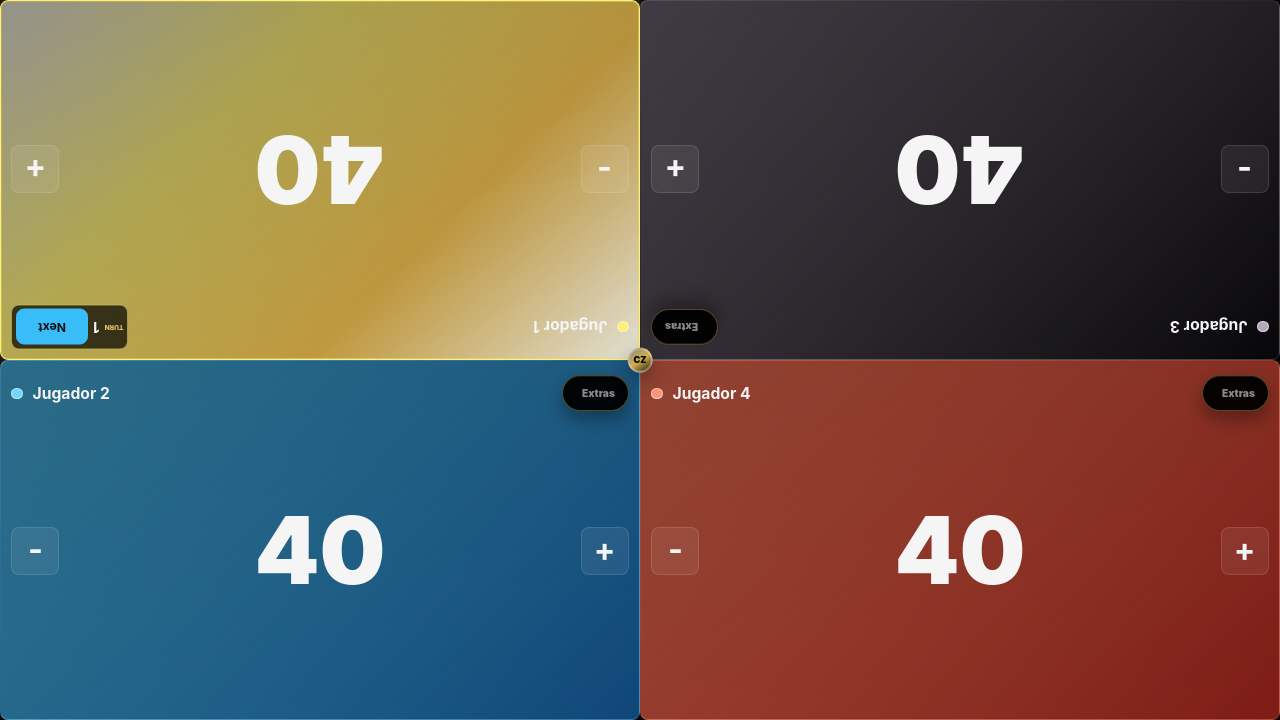
Scenario: TableAssistantRoomComponent › opens the centered logo exit menu without leaving the room immediately
Step 1. Click the button with class "table-logo-button" → (640, 360), box [628,348,652,372]
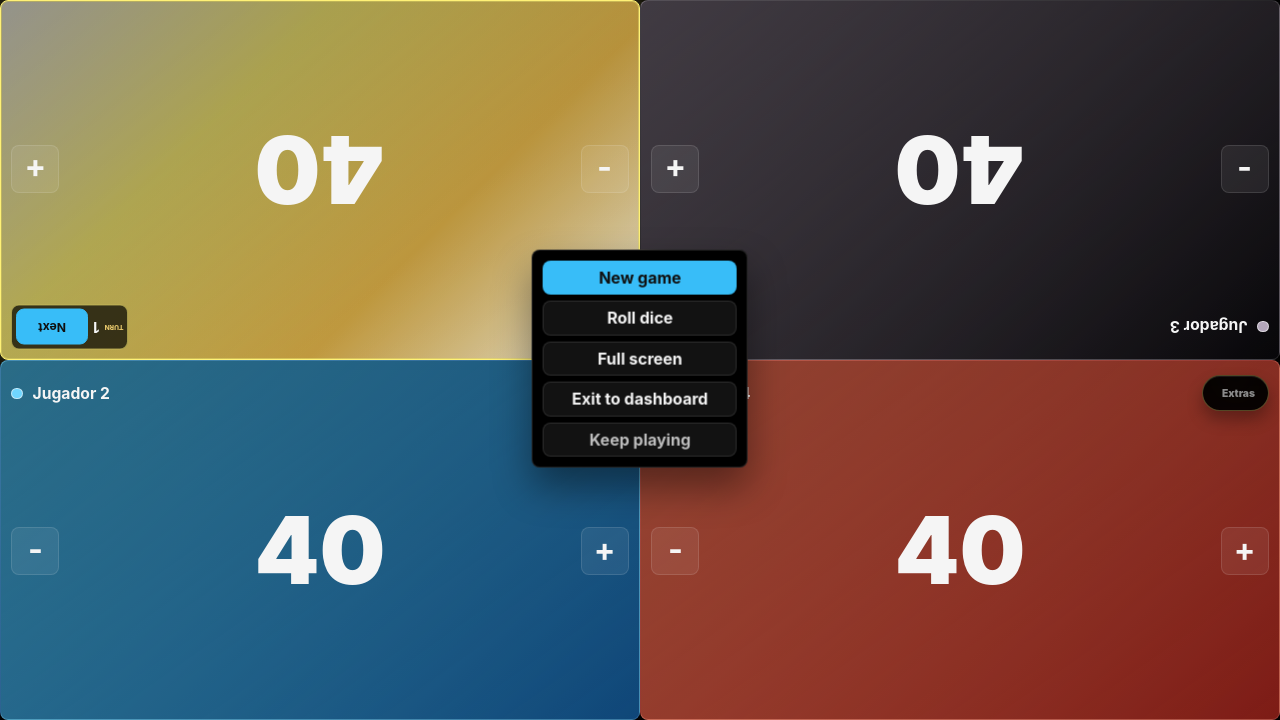
Now the dialog with class "table-exit-menu" is shown, box [532,250,748,468]
Now the text "New game" is shown, box [543,260,737,295]
Now the text "Roll dice" is shown, box [543,301,737,335]
